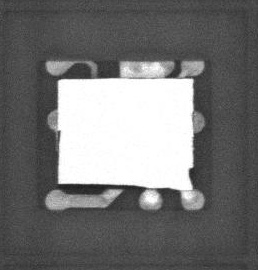DIE_BROKEN: (57, 180, 146, 190), (188, 166, 195, 190), (57, 127, 61, 154)
